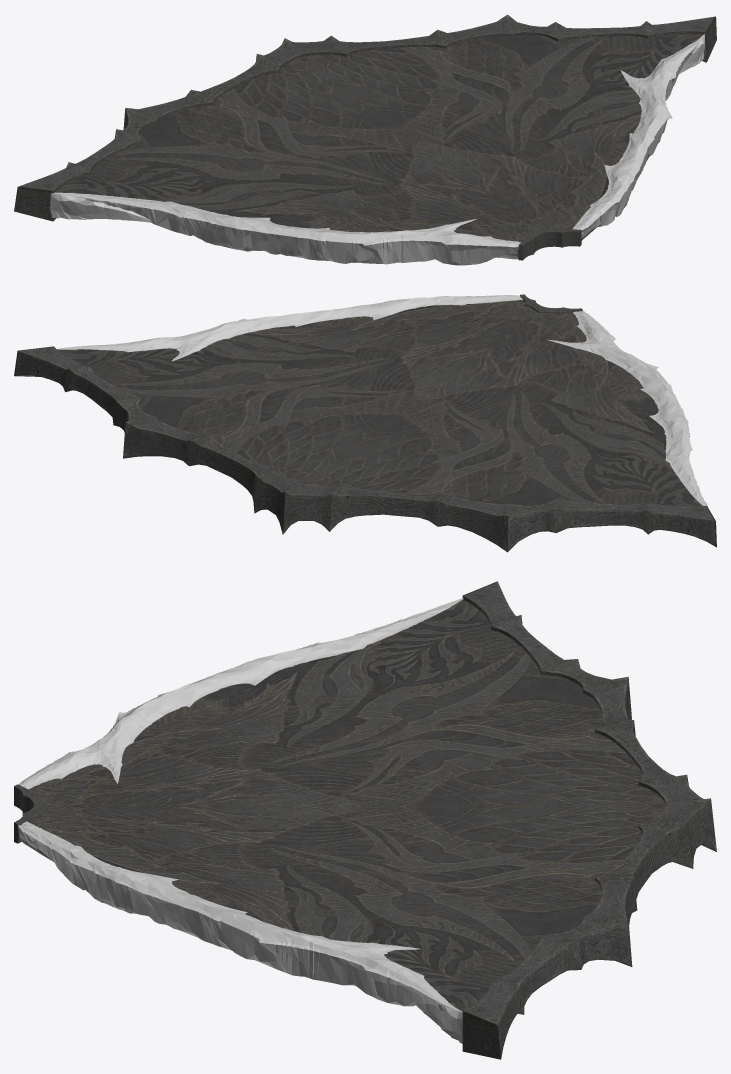
The model's file is bg_rad_kamen_floor05f_sm.obj.
3 views of the same model, one above another, from view 1: azimuth 30°, elevation 25°; view 2: azimuth 150°, elevation 25°; view 3: azimuth 270°, elevation 25° (orthographic). The views are drawn at different scales.
Parts seen in each view (by area): view 1: bg_rad_kamen_floor05f_sm_0, bg_rad_kamen_floor05f_sm_1, bg_rad_kamen_floor05f_sm_2, bg_rad_kamen_floor05f_sm_3; view 2: bg_rad_kamen_floor05f_sm_0, bg_rad_kamen_floor05f_sm_3, bg_rad_kamen_floor05f_sm_1, bg_rad_kamen_floor05f_sm_2; view 3: bg_rad_kamen_floor05f_sm_0, bg_rad_kamen_floor05f_sm_1, bg_rad_kamen_floor05f_sm_2, bg_rad_kamen_floor05f_sm_3.
Boxes of the visible parts, <box> form: bg_rad_kamen_floor05f_sm_0: <box>42,34,703,255</box>; bg_rad_kamen_floor05f_sm_1: <box>230,113,641,241</box>; bg_rad_kamen_floor05f_sm_2: <box>50,34,704,265</box>; bg_rad_kamen_floor05f_sm_3: <box>14,14,716,260</box>; bg_rad_kamen_floor05f_sm_0: <box>58,323,702,506</box>; bg_rad_kamen_floor05f_sm_3: <box>14,294,716,552</box>; bg_rad_kamen_floor05f_sm_1: <box>248,297,664,433</box>; bg_rad_kamen_floor05f_sm_2: <box>57,295,707,506</box>; bg_rad_kamen_floor05f_sm_0: <box>19,599,665,1011</box>; bg_rad_kamen_floor05f_sm_1: <box>20,668,362,930</box>; bg_rad_kamen_floor05f_sm_2: <box>18,598,463,1043</box>; bg_rad_kamen_floor05f_sm_3: <box>14,581,716,1059</box>.
Bounding box in the file's own units: 9.09 × 0.5157 × 6.04.
Materials: 4 (3 with a texture image).
